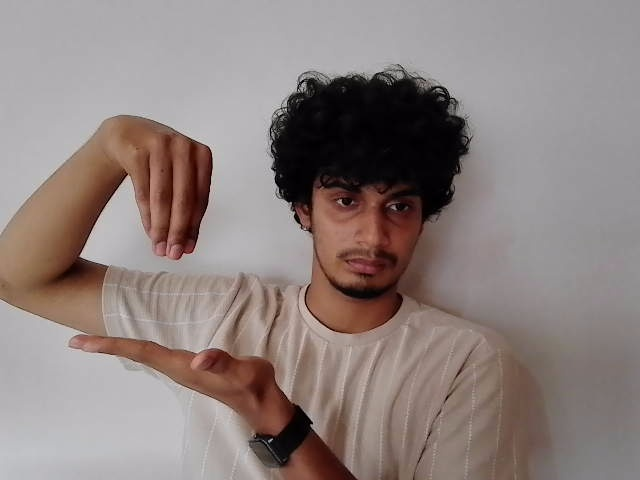learn: (71, 114, 279, 405)
